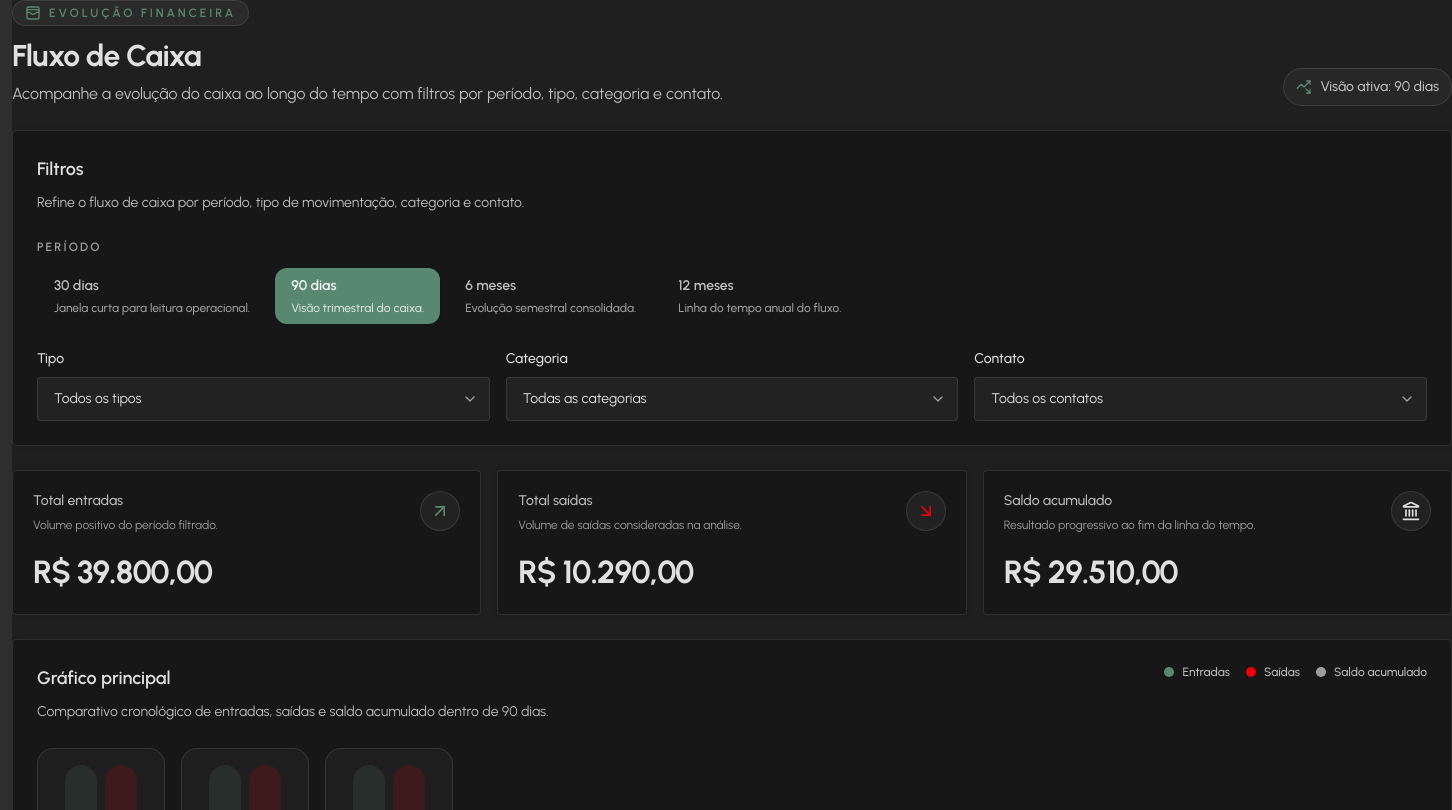
Test: <CashFlowPage /> › aplica os filtros de tipo e categoria ao overview do fluxo
Expected: the element named "indicadores do fluxo de caixa" is shown, [12,470,1451,615]
Select "Saídas" in the dropdown labelled "Tipo" at (263, 399), box [37,377,490,421]
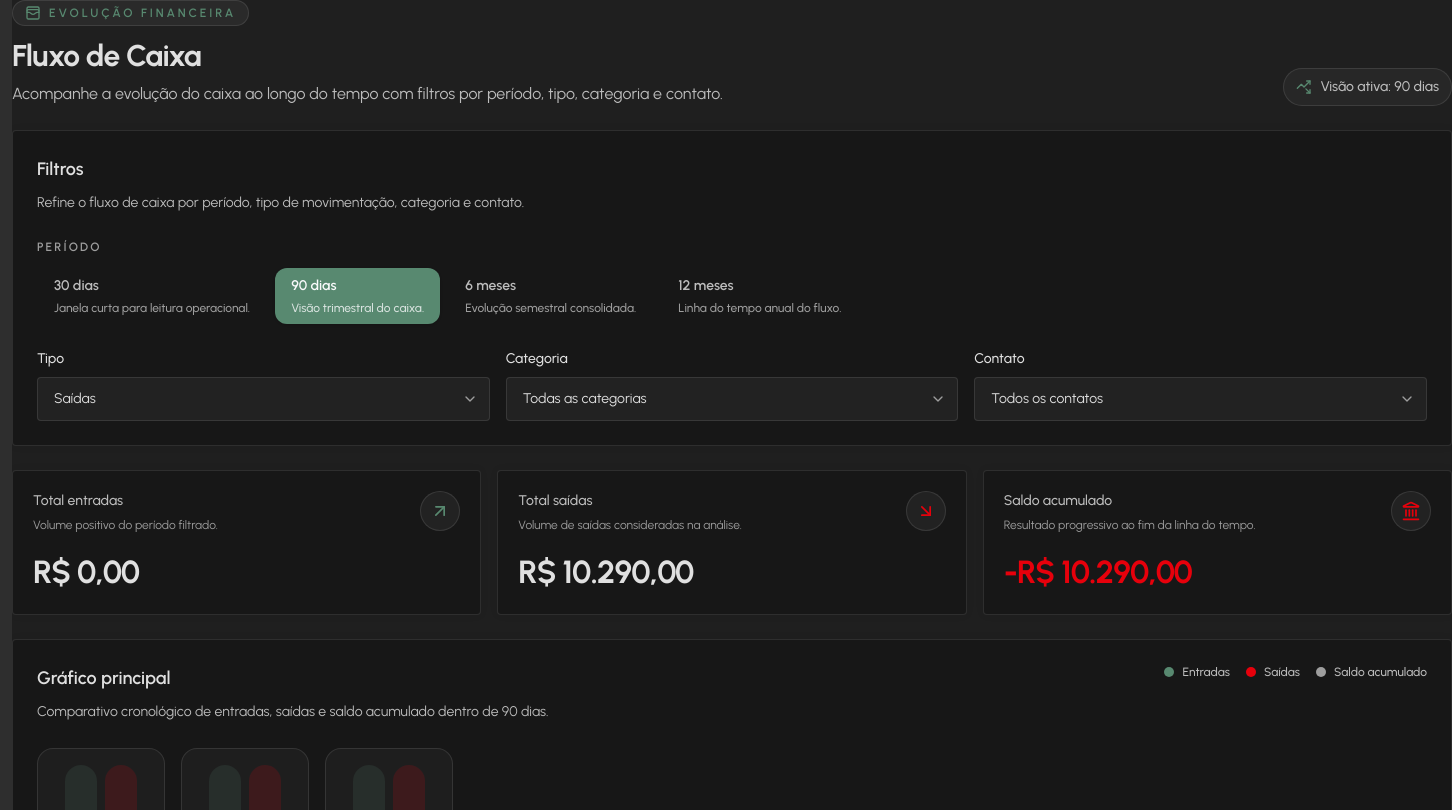
Select "Marketing" in the dropdown labelled "Categoria" at (732, 399), box [506,377,958,421]
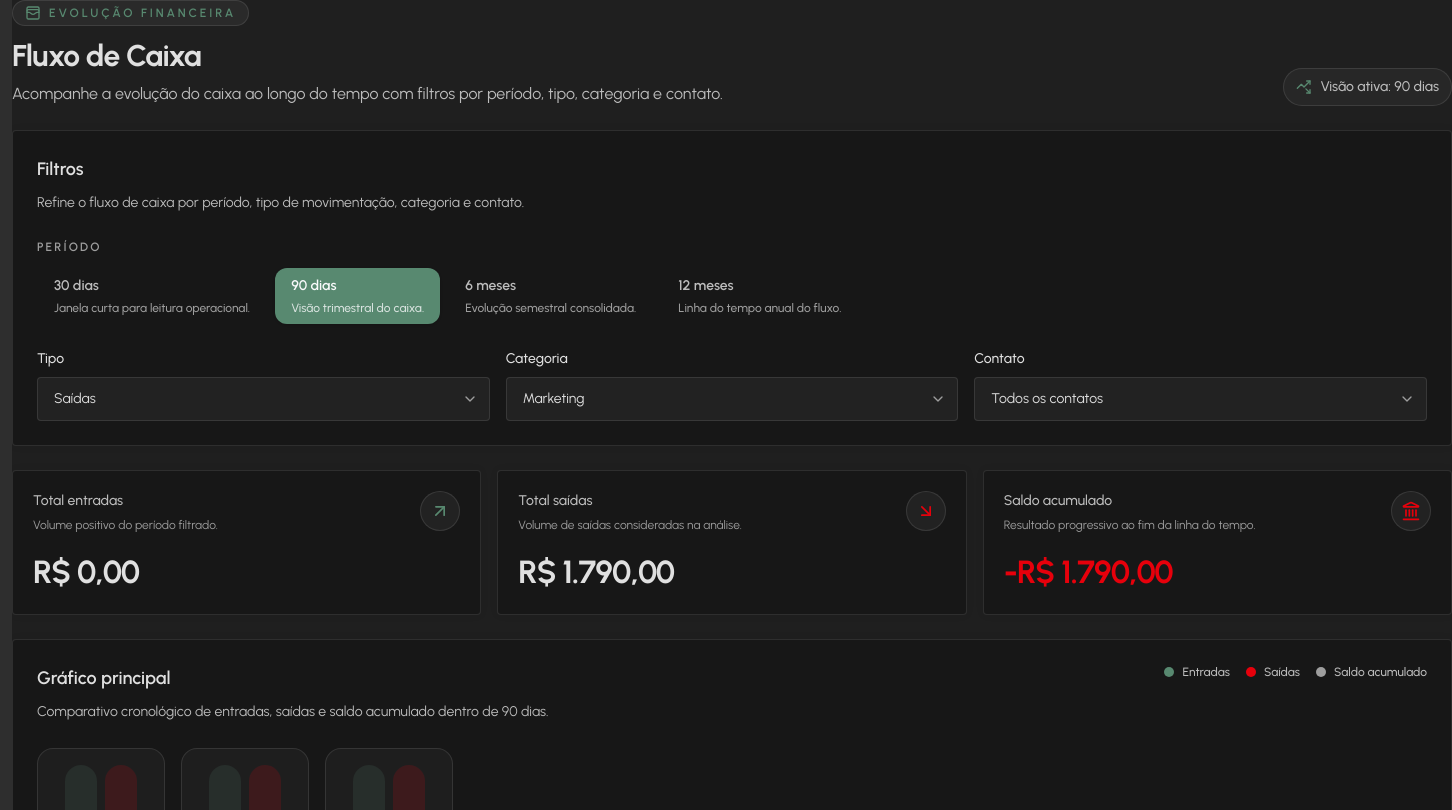
Result: the text "R$ 0,00" is shown at [33,553,139,591]
Result: the text "R$ 1.790,00" is shown at [518,553,674,591]
Result: the text "-R$ 1.790,00" is shown at [1004,553,1173,591]
